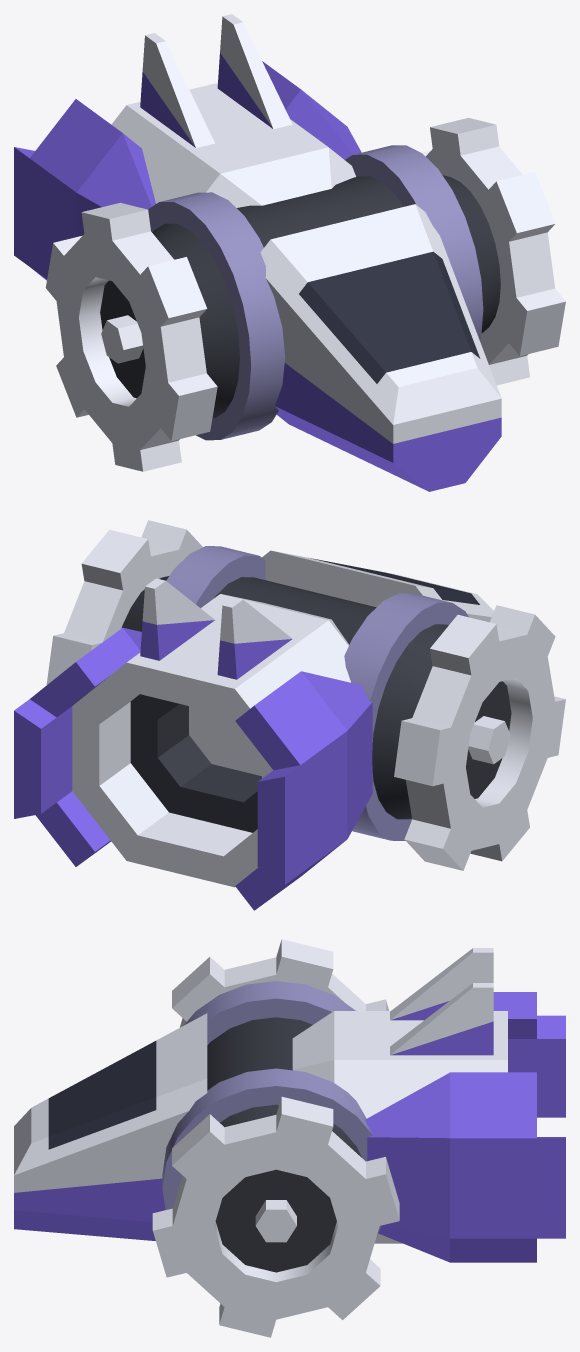
The model's file is Dasher.fbx.
3 renders of one model, top to bottom at view 1: azimuth 30°, elevation 25°; view 2: azimuth 150°, elevation 25°; view 3: azimuth 270°, elevation 25°, orthographic. The views are drawn at different scales.
Parts seen in each view (by area): view 1: cog_smallBasicClosed (×2), hull_cockpitPoint, detail_tank, turbine_flaps, rudder (×2); view 2: turbine_flaps, cog_smallBasicClosed (×2), detail_tank, rudder (×2), hull_cockpitPoint; view 3: turbine_flaps, cog_smallBasicClosed (×2), hull_cockpitPoint, detail_tank, rudder (×2).
Part boxes in pixels (bbox=[...]): cog_smallBasicClosed (×2): bbox=[45, 118, 565, 471]; hull_cockpitPoint: bbox=[260, 204, 501, 491]; detail_tank: bbox=[148, 145, 500, 440]; turbine_flaps: bbox=[14, 61, 361, 280]; rudder (×2): bbox=[140, 14, 292, 147]; turbine_flaps: bbox=[14, 594, 372, 910]; cog_smallBasicClosed (×2): bbox=[46, 520, 565, 870]; detail_tank: bbox=[121, 546, 468, 840]; rudder (×2): bbox=[140, 578, 292, 679]; hull_cockpitPoint: bbox=[262, 550, 493, 622]; turbine_flaps: bbox=[292, 992, 565, 1262]; cog_smallBasicClosed (×2): bbox=[152, 939, 399, 1337]; hull_cockpitPoint: bbox=[14, 1013, 207, 1240]; detail_tank: bbox=[162, 981, 380, 1235]; rudder (×2): bbox=[390, 948, 493, 1055].
Bounding box in the file's own units: 0.1 × 0.0753 × 0.1334.
